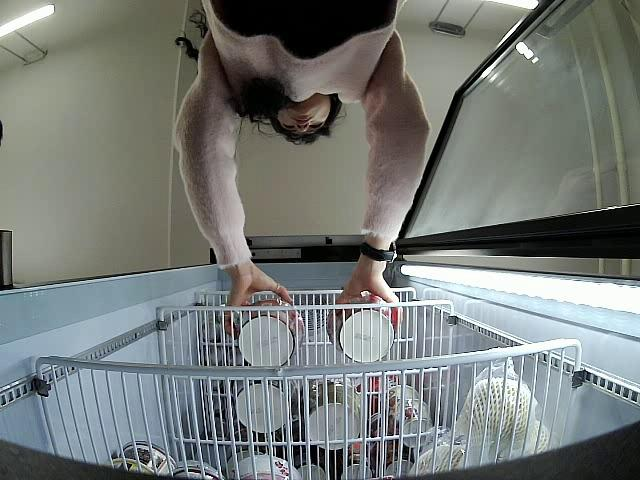00_hand: (225, 271, 295, 336), (330, 271, 401, 311)
01_shinRamen_L: (322, 293, 397, 364), (237, 299, 306, 371)
